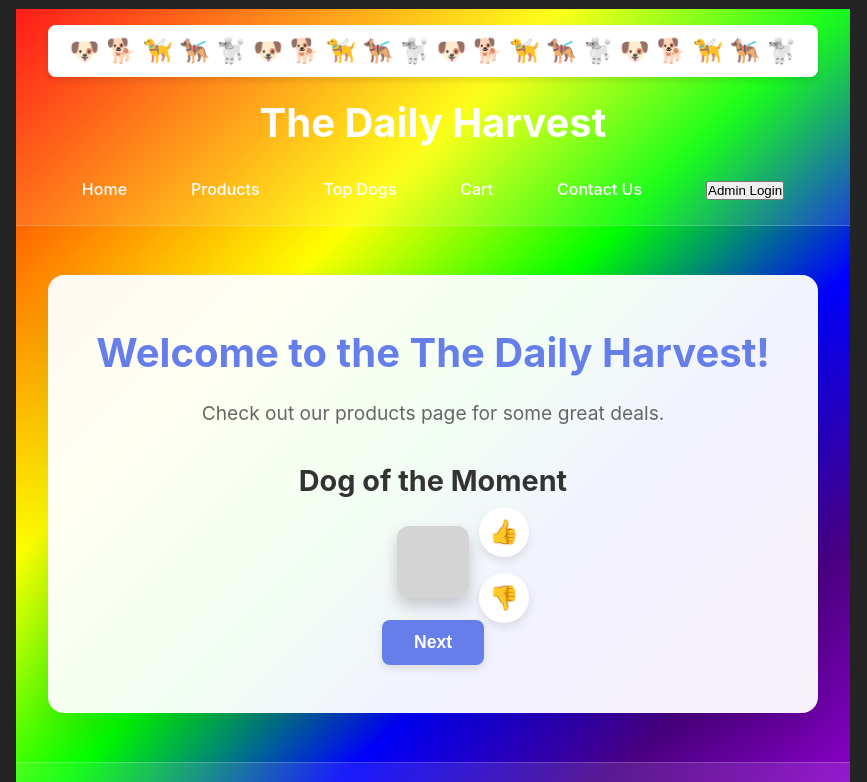
Test: HomePage › should clear emoji when Next button is clicked
The width and height of the screenshot is (867, 782).
// Click thumbs up to show emoji
Click the button named "thumbs up": (504, 532) left=479, top=508, right=529, bottom=558
(page scrolled)
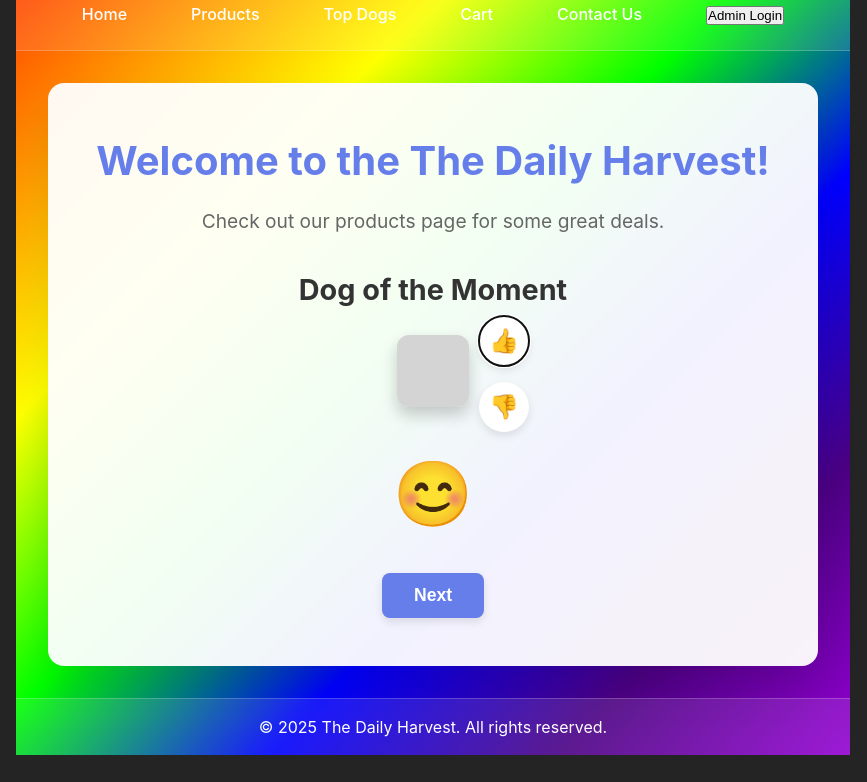
Now the text "😊" is shown, box left=393, top=445, right=473, bottom=541
// Click Next button
Click the button "Next": (433, 596) left=382, top=573, right=484, bottom=618
(page scrolled)
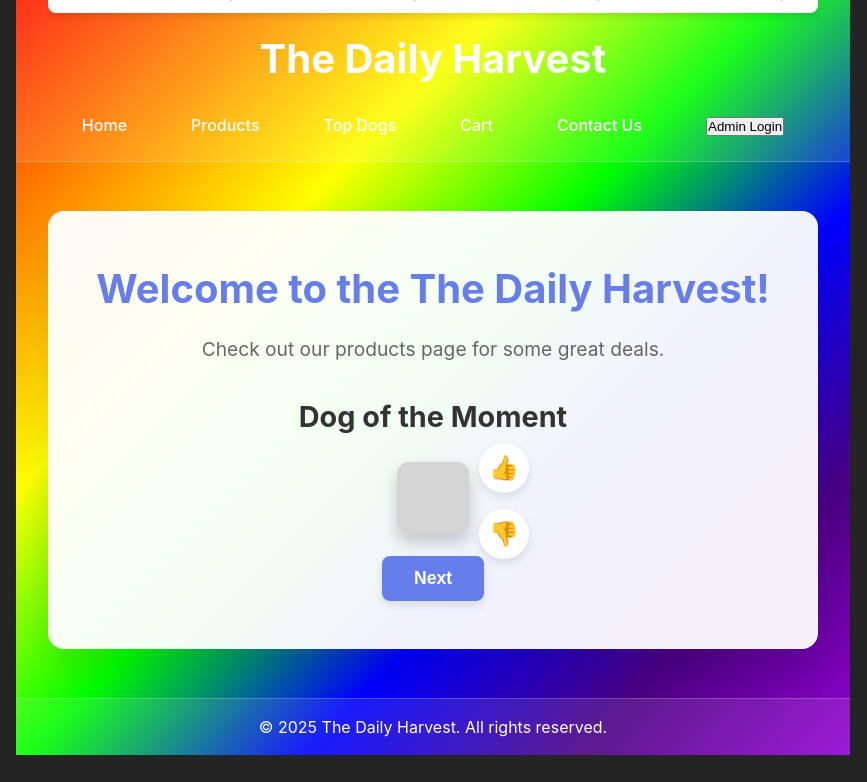
Now the text with test id "emoji-display" is gone
